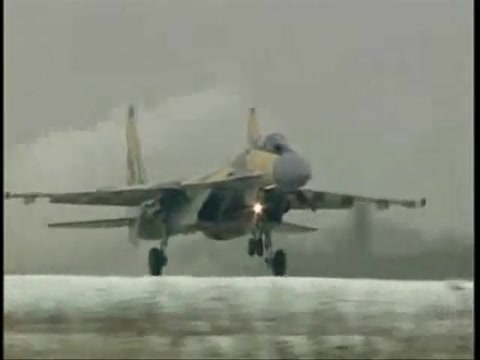aeroplane: (5, 107, 431, 279)
